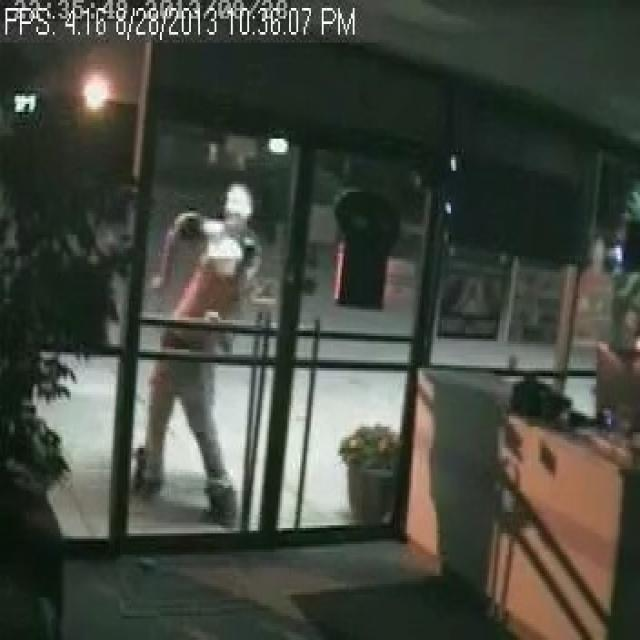fight: (135, 183, 255, 538)
